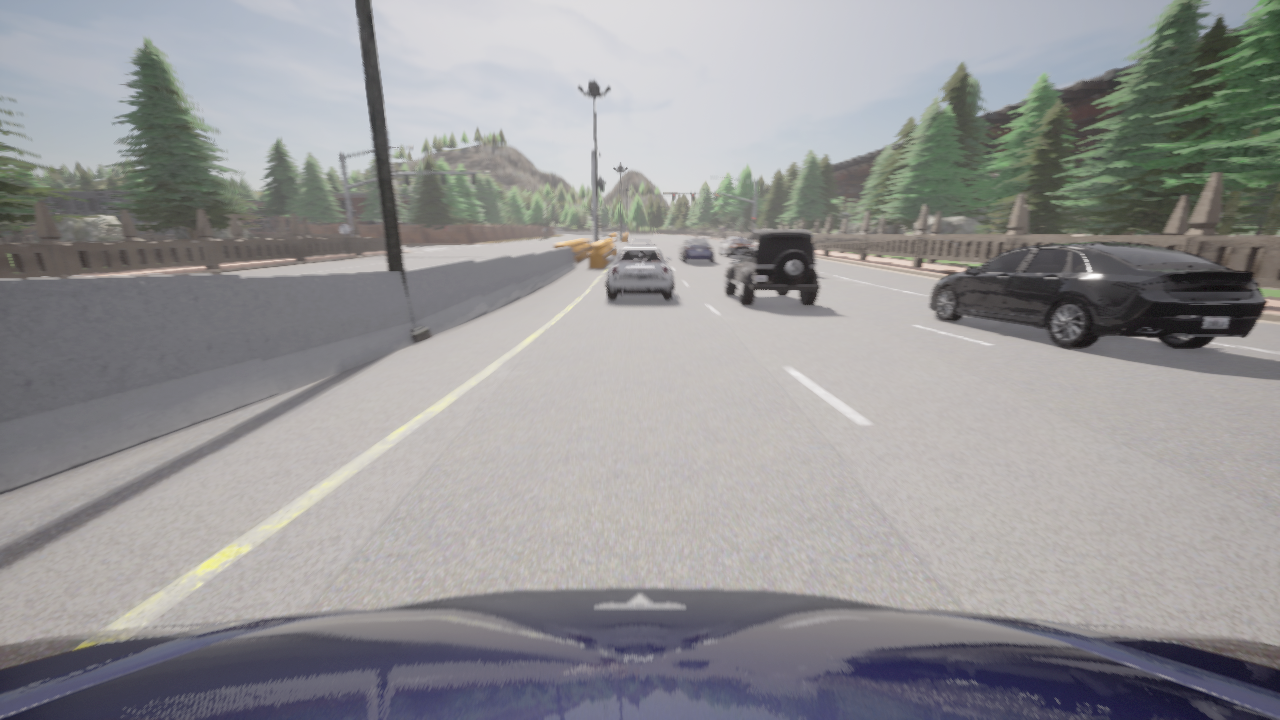cyclist: (0, 588, 1279, 719), (930, 242, 1266, 348), (724, 230, 820, 305), (606, 246, 673, 300), (678, 238, 714, 263), (718, 236, 746, 258), (624, 238, 656, 246)
